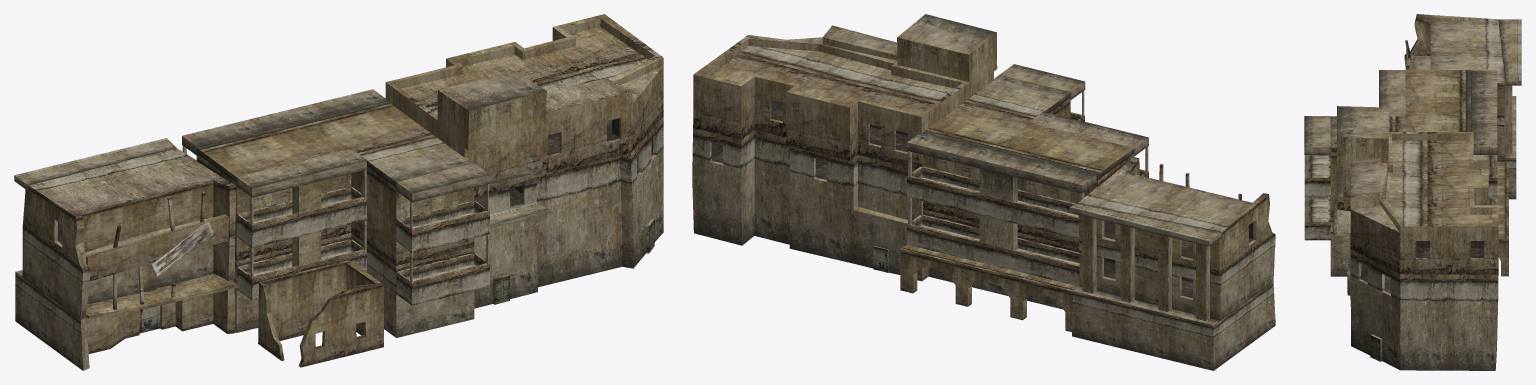
Rendered from Crdrblk2.glb.
3 views of the same model, side by side, from view 1: azimuth 30°, elevation 25°; view 2: azimuth 150°, elevation 25°; view 3: azimuth 270°, elevation 25° (orthographic). The views are drawn at different scales.
Visible parts, largest first — view 1: _Crdrblk2; view 2: _Crdrblk2; view 3: _Crdrblk2.
Part boxes in pixels (x1,y1,x2,y2): _Crdrblk2: (14,14,663,370); _Crdrblk2: (692,14,1275,370); _Crdrblk2: (1304,14,1521,370).
Bounding box in the file's own units: 67.13 × 22.89 × 26.34.
2 materials, 2 textured.
